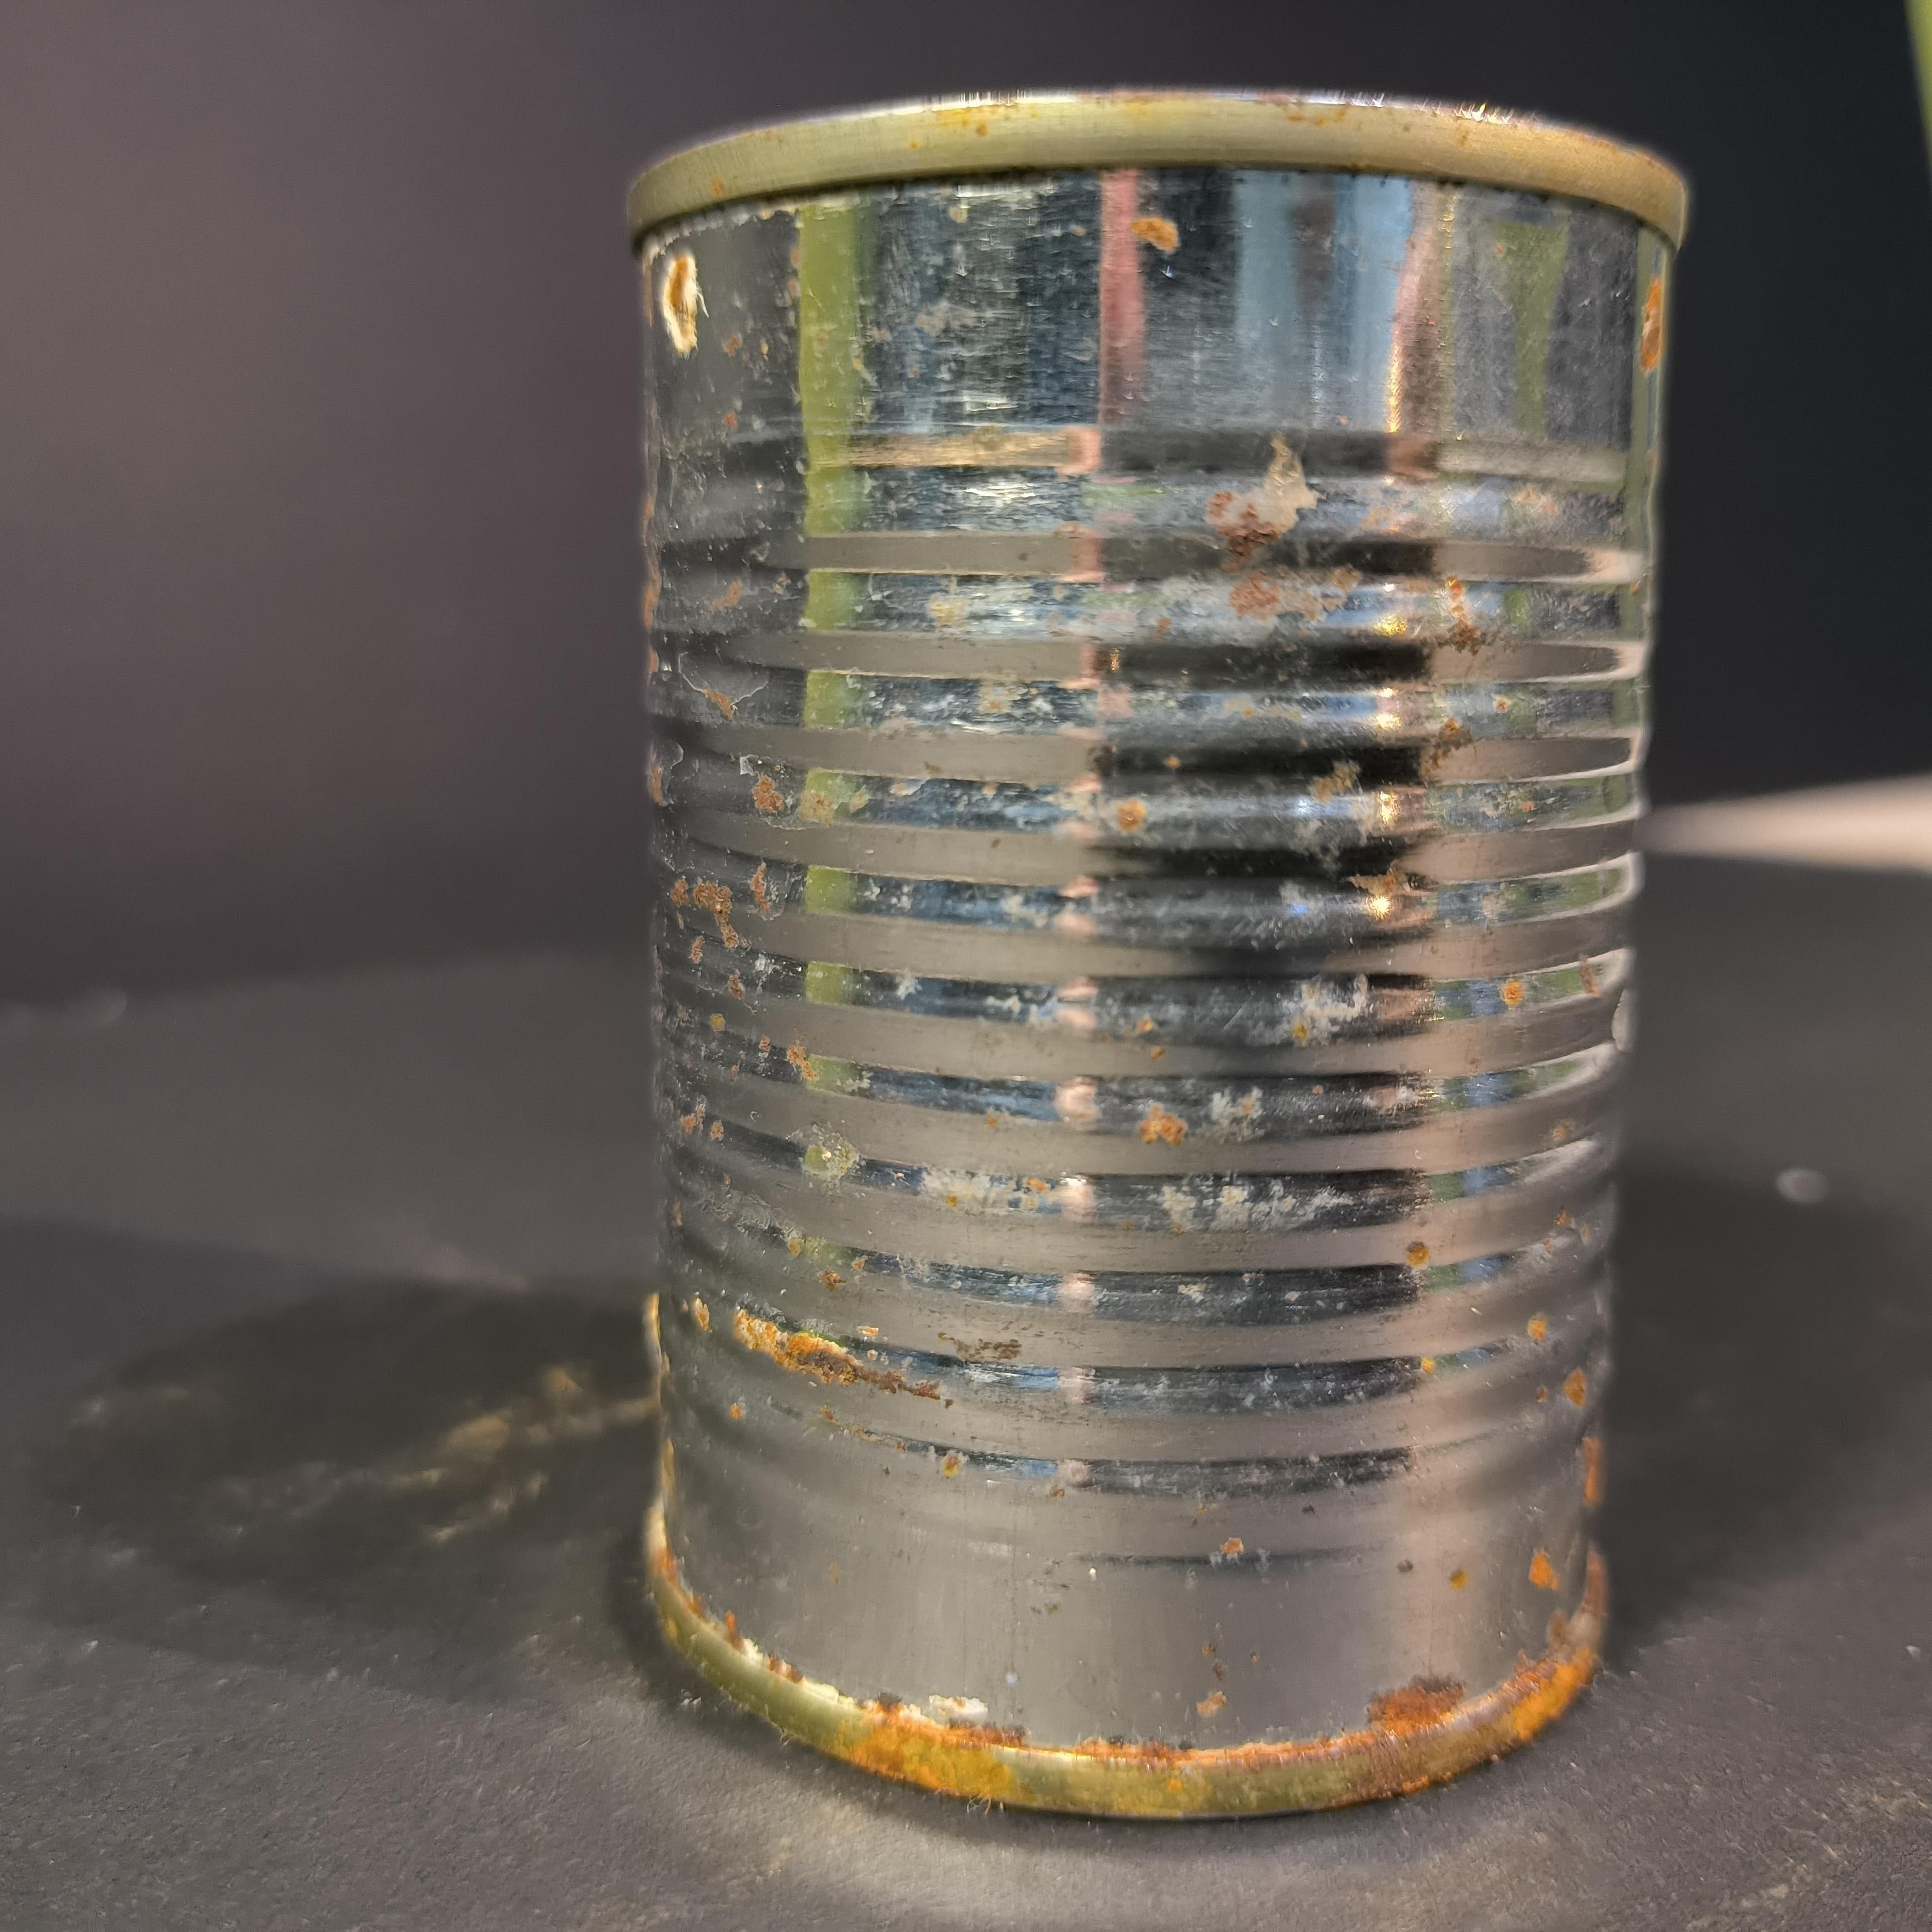Rusted: (596, 67, 1721, 1836)
